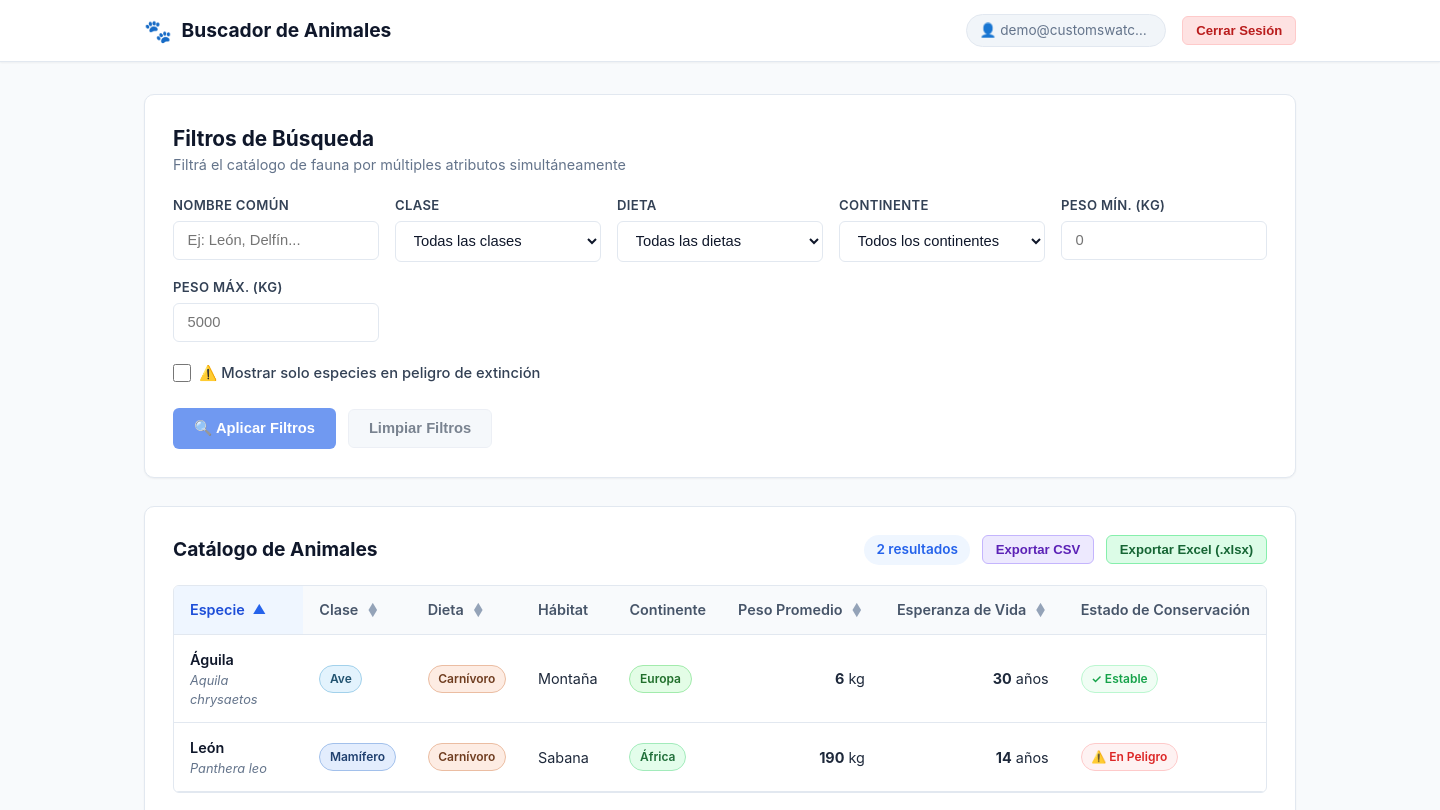
Test: buscador protegido › muestra un error accesible si falla la exportación Excel
This screenshot has width=1440, height=810.
Expected: the text "León" is shown, x1=190 y1=739 x2=224 y2=756
Click the button "Exportar Excel (.xlsx)" at coordinates (1187, 550), box x1=1106 y1=535 x2=1267 y2=564
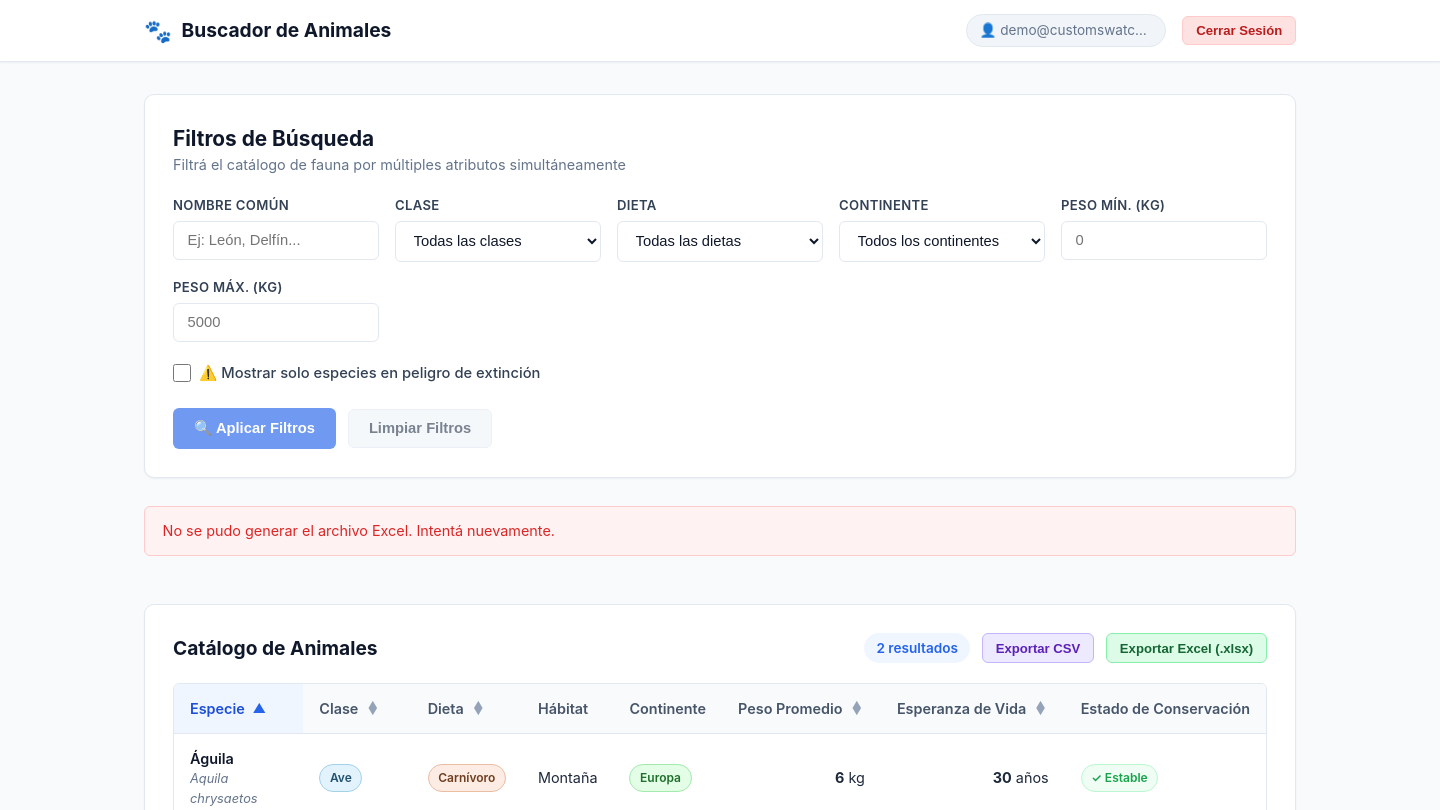
Expected: the message shows "No se pudo generar el archivo Excel", x1=163 y1=522 x2=555 y2=539
